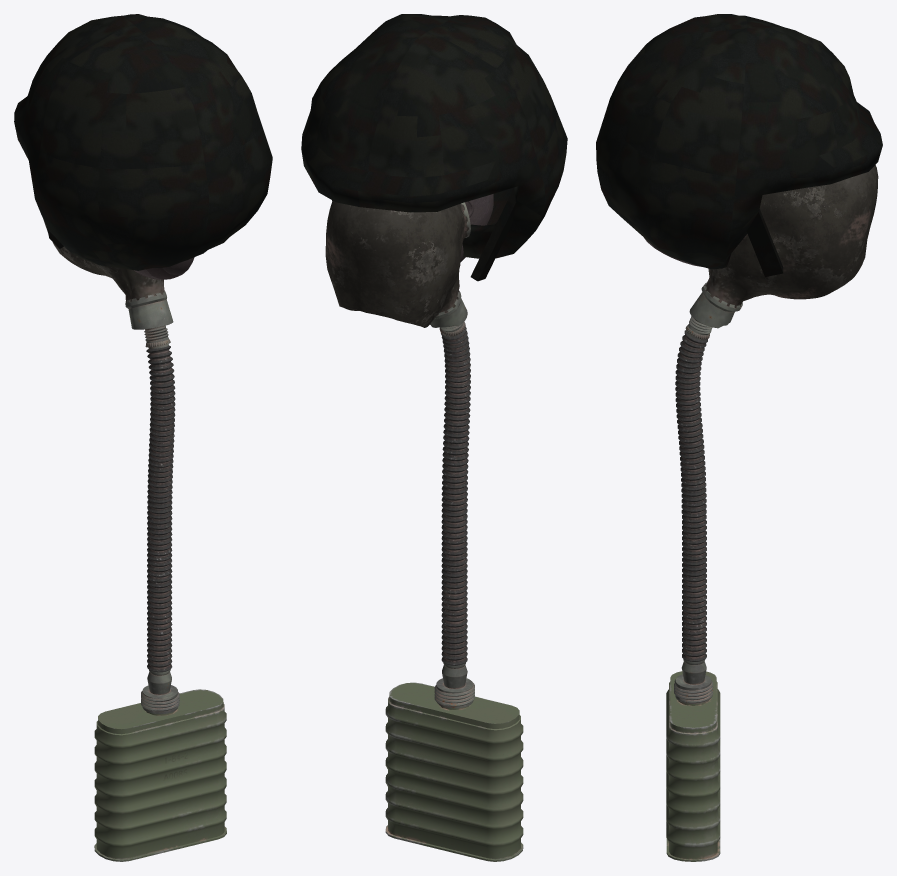
Rendered from zombie_head_gasmask.glb.
The picture shows the model from 3 angles, left to right: view 1: azimuth 30°, elevation 25°; view 2: azimuth 150°, elevation 25°; view 3: azimuth 270°, elevation 25°; orthographic projection. The views are drawn at different scales.
Visible parts, largest first — view 1: PASGTHelmet, old_gas_mask, LeePerrySmith; view 2: old_gas_mask, PASGTHelmet, Cube.014, LeePerrySmith; view 3: PASGTHelmet, old_gas_mask, Cube.015.
Part boxes in pixels (bbox=[...]): PASGTHelmet: bbox=[14, 14, 272, 270]; old_gas_mask: bbox=[43, 220, 226, 861]; LeePerrySmith: bbox=[134, 257, 194, 279]; old_gas_mask: bbox=[325, 200, 523, 861]; PASGTHelmet: bbox=[301, 14, 567, 258]; Cube.014: bbox=[470, 188, 516, 281]; LeePerrySmith: bbox=[460, 194, 493, 262]; PASGTHelmet: bbox=[596, 14, 882, 269]; old_gas_mask: bbox=[666, 165, 878, 861]; Cube.015: bbox=[746, 209, 783, 276].
Size of the model in its own units: 0.2662 by 0.934 by 0.3012.
5 materials, 4 textured.
